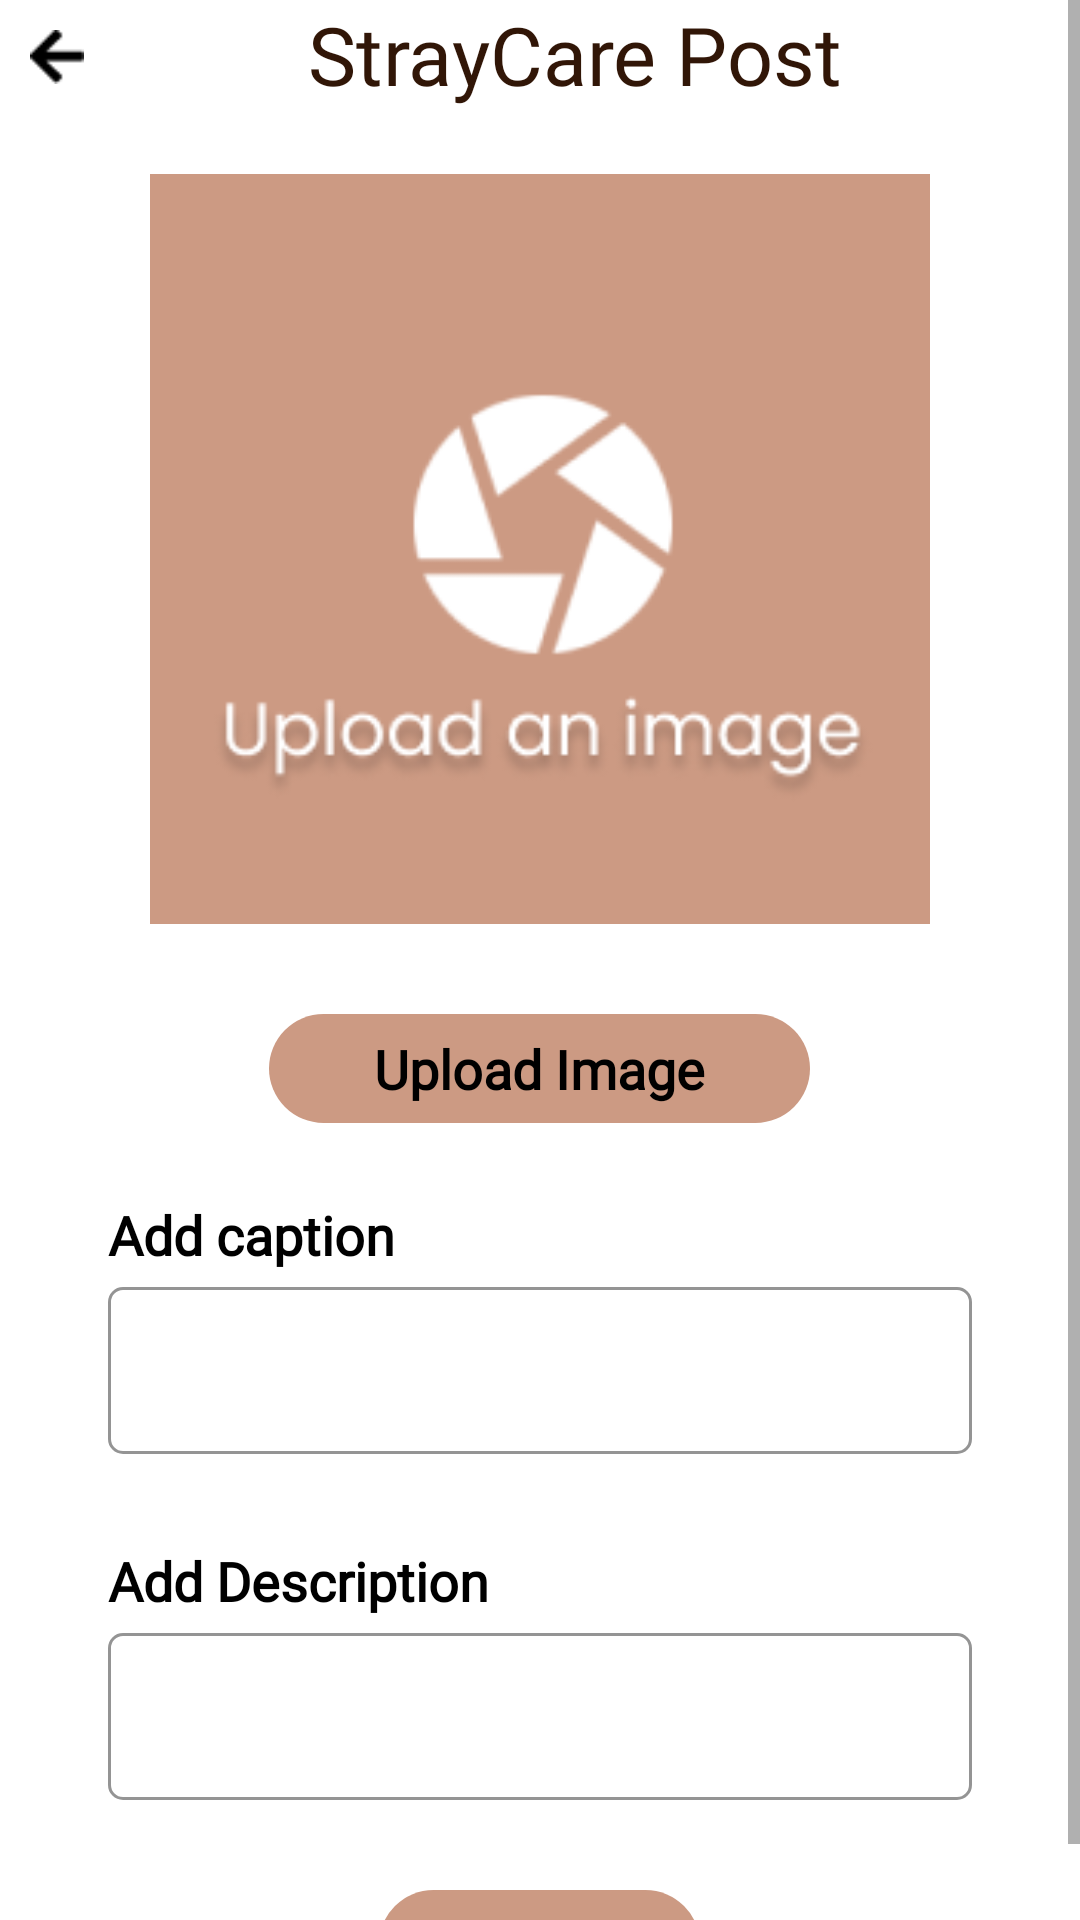

Screen size 1080*1920. Icon name, then its center in pixels as (x=x, y=y):
back: (x=57, y=57)
